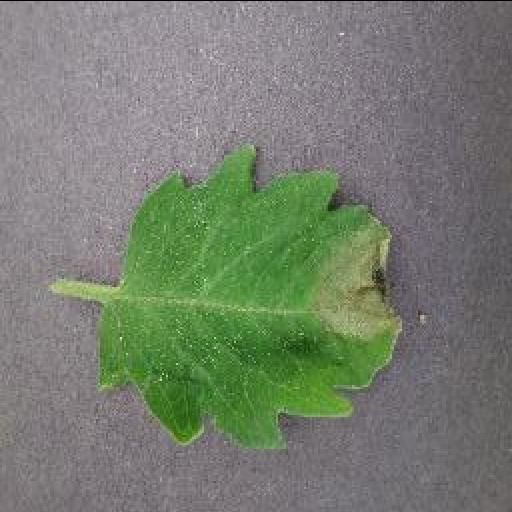disease_tomato: (94, 144, 404, 446)
